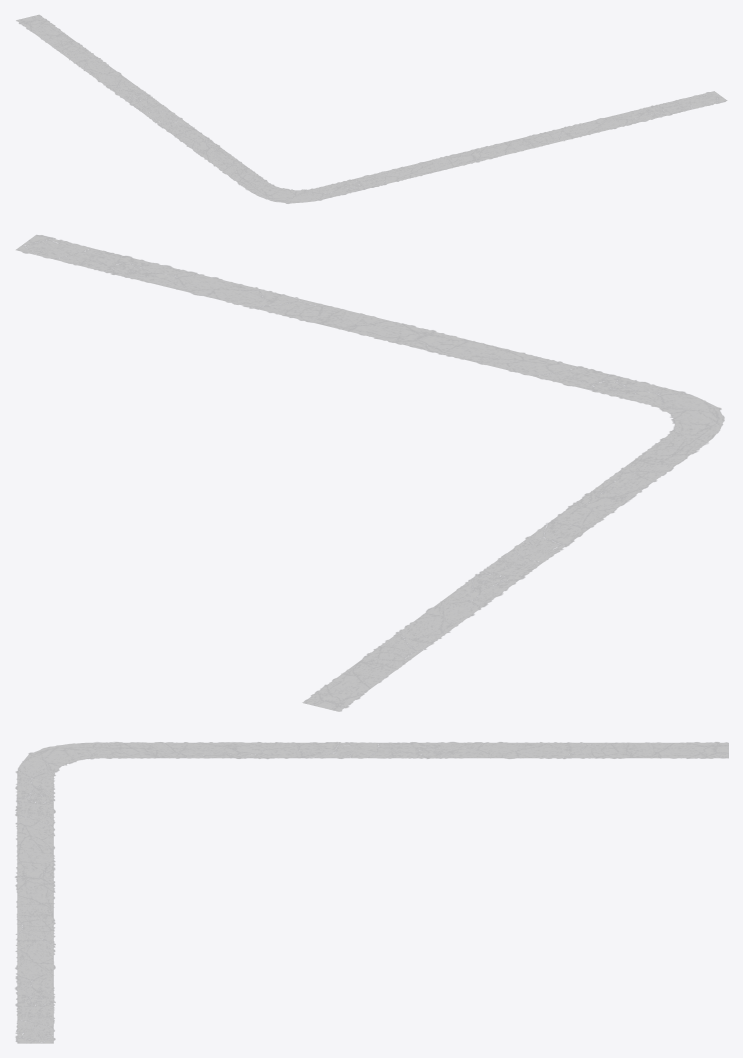
File: Sidewalk_Corner_Flat_3m_Stripe.glb
The picture shows the model from 3 angles, top to bottom: view 1: azimuth 30°, elevation 25°; view 2: azimuth 150°, elevation 25°; view 3: azimuth 270°, elevation 25°; orthographic projection. The views are drawn at different scales.
Visible parts, largest first — view 1: Sidewalk_Corner_Flat_3m_Stripe; view 2: Sidewalk_Corner_Flat_3m_Stripe; view 3: Sidewalk_Corner_Flat_3m_Stripe.
Part boxes in pixels (x1,y1,x2,y2): Sidewalk_Corner_Flat_3m_Stripe: (16, 14, 727, 203); Sidewalk_Corner_Flat_3m_Stripe: (16, 235, 724, 711); Sidewalk_Corner_Flat_3m_Stripe: (15, 742, 728, 1043).
Bounding box in the file's own units: 3.4 × 0 × 3.4.
Materials: 1 (1 with a texture image).
